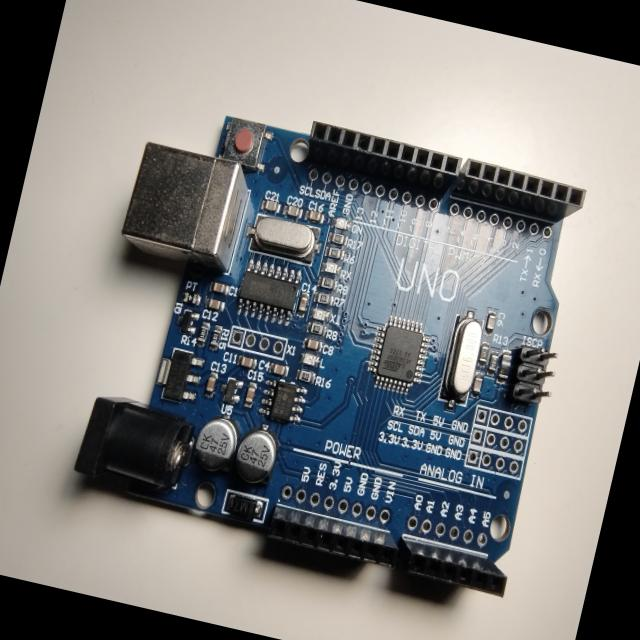arduino: (52, 68, 608, 628)
